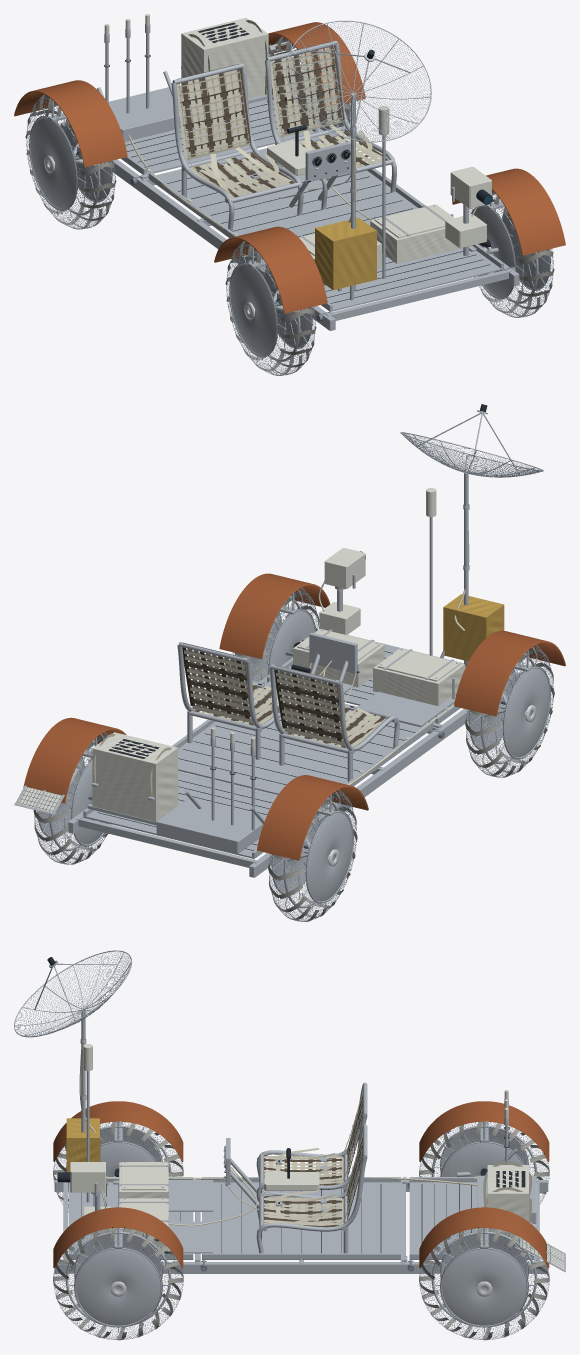
File: lrv17-exterior-mobile.glb
The picture shows the model from 3 angles, top to bottom: view 1: azimuth 30°, elevation 25°; view 2: azimuth 150°, elevation 25°; view 3: azimuth 270°, elevation 25°; orthographic projection. The views are drawn at different scales.
Parts seen in each view (by area): view 1: CHASSIS_Machined_aluminium, FENDER_SHELL_Orange_fibreglass_dust_fender (×4), WOVEN_SEAT_LEFT_Nylon_seat_webbing (×2), SEATS_Machined_aluminium, REAR_EQUIPMENT_White_thermal_coating, HGA_WIRE_REFLECTOR_Steel_fixings, WOVEN_SEAT_RIGHT_Nylon_seat_webbing, LCRU_Multilayer_thermal_foil, REAR_EQUIPMENT_Machined_aluminium, BATTERY_COVERS_White_thermal_coating, WHEEL_-1_1.15_OUTER_DISK_Machined_aluminium, WHEEL_-1_-1.15_OUTER_DISK_Machined_aluminium (+25 smaller); view 2: CHASSIS_Machined_aluminium, FENDER_SHELL_Orange_fibreglass_dust_fender (×4), SEATS_Machined_aluminium, REAR_EQUIPMENT_White_thermal_coating, BATTERY_COVERS_White_thermal_coating, REAR_EQUIPMENT_Machined_aluminium, WOVEN_SEAT_LEFT_Nylon_seat_webbing, WOVEN_SEAT_RIGHT_Nylon_seat_webbing, LCRU_Multilayer_thermal_foil, WHEEL_-1_-1.15_OUTER_DISK_Machined_aluminium, WHEEL_-1_1.15_OUTER_DISK_Machined_aluminium, TV_CAMERA_White_thermal_coating (+19 smaller); view 3: CHASSIS_Machined_aluminium, FENDER_SHELL_Orange_fibreglass_dust_fender (×4), SEATS_Machined_aluminium, WHEEL_1_-1.15_OUTER_DISK_Machined_aluminium, WHEEL_1_1.15_OUTER_DISK_Machined_aluminium, BATTERY_COVERS_White_thermal_coating, HGA_WIRE_REFLECTOR_Steel_fixings, WHEEL_1_1.15_MESH_Steel_fixings, WHEEL_1_-1.15_MESH_Steel_fixings, REAR_EQUIPMENT_White_thermal_coating, WHEEL_1_1.15_TRACTION_Titanium_traction_bands, WHEEL_1_-1.15_TRACTION_Titanium_traction_bands (+28 smaller).
Boxes of the visible parts, left/top/right/bottom form: CHASSIS_Machined_aluminium: left=60, top=98, right=519, bottom=330; FENDER_SHELL_Orange_fibreglass_dust_fender (×4): left=14, top=22, right=565, bottom=313; WOVEN_SEAT_LEFT_Nylon_seat_webbing (×2): left=176, top=70, right=291, bottom=198; SEATS_Machined_aluminium: left=171, top=40, right=453, bottom=237; REAR_EQUIPMENT_White_thermal_coating: left=104, top=14, right=268, bottom=104; HGA_WIRE_REFLECTOR_Steel_fixings: left=287, top=22, right=430, bottom=141; WOVEN_SEAT_RIGHT_Nylon_seat_webbing: left=270, top=47, right=382, bottom=167; LCRU_Multilayer_thermal_foil: left=315, top=217, right=376, bottom=290; REAR_EQUIPMENT_Machined_aluminium: left=97, top=33, right=273, bottom=141; BATTERY_COVERS_White_thermal_coating: left=299, top=204, right=462, bottom=268; WHEEL_-1_1.15_OUTER_DISK_Machined_aluminium: left=230, top=264, right=276, bottom=355; WHEEL_-1_-1.15_OUTER_DISK_Machined_aluminium: left=30, top=118, right=76, bottom=208; CHASSIS_Machined_aluminium: left=68, top=635, right=519, bottom=877; FENDER_SHELL_Orange_fibreglass_dust_fender (×4): left=23, top=573, right=565, bottom=860; SEATS_Machined_aluminium: left=177, top=641, right=455, bottom=781; REAR_EQUIPMENT_White_thermal_coating: left=92, top=727, right=255, bottom=821; BATTERY_COVERS_White_thermal_coating: left=293, top=629, right=464, bottom=706; REAR_EQUIPMENT_Machined_aluminium: left=87, top=746, right=265, bottom=853; WOVEN_SEAT_LEFT_Nylon_seat_webbing: left=276, top=671, right=384, bottom=748; WOVEN_SEAT_RIGHT_Nylon_seat_webbing: left=184, top=649, right=277, bottom=725; LCRU_Multilayer_thermal_foil: left=443, top=594, right=504, bottom=661; WHEEL_-1_-1.15_OUTER_DISK_Machined_aluminium: left=307, top=812, right=352, bottom=901; WHEEL_-1_1.15_OUTER_DISK_Machined_aluminium: left=504, top=668, right=549, bottom=757; TV_CAMERA_White_thermal_coating: left=319, top=548, right=365, bottom=634; CHASSIS_Machined_aluminium: left=54, top=1177, right=548, bottom=1273; FENDER_SHELL_Orange_fibreglass_dust_fender (×4): left=53, top=1101, right=549, bottom=1268; SEATS_Machined_aluminium: left=146, top=1082, right=367, bottom=1253; WHEEL_1_-1.15_OUTER_DISK_Machined_aluminium: left=442, top=1249, right=526, bottom=1325; WHEEL_1_1.15_OUTER_DISK_Machined_aluminium: left=76, top=1249, right=160, bottom=1325; BATTERY_COVERS_White_thermal_coating: left=119, top=1162, right=168, bottom=1248; HGA_WIRE_REFLECTOR_Steel_fixings: left=15, top=951, right=130, bottom=1036; WHEEL_1_1.15_MESH_Steel_fixings: left=53, top=1228, right=183, bottom=1339; WHEEL_1_-1.15_MESH_Steel_fixings: left=419, top=1228, right=549, bottom=1339; REAR_EQUIPMENT_White_thermal_coating: left=487, top=1090, right=529, bottom=1249; WHEEL_1_1.15_TRACTION_Titanium_traction_bands: left=53, top=1228, right=183, bottom=1340; WHEEL_1_-1.15_TRACTION_Titanium_traction_bands: left=419, top=1228, right=549, bottom=1340.
Bounding box in the file's own units: 1.88 × 2.1 × 3.47.
